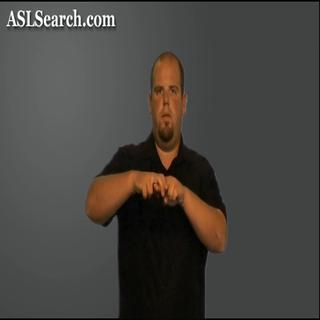chair: (130, 164, 183, 209)
